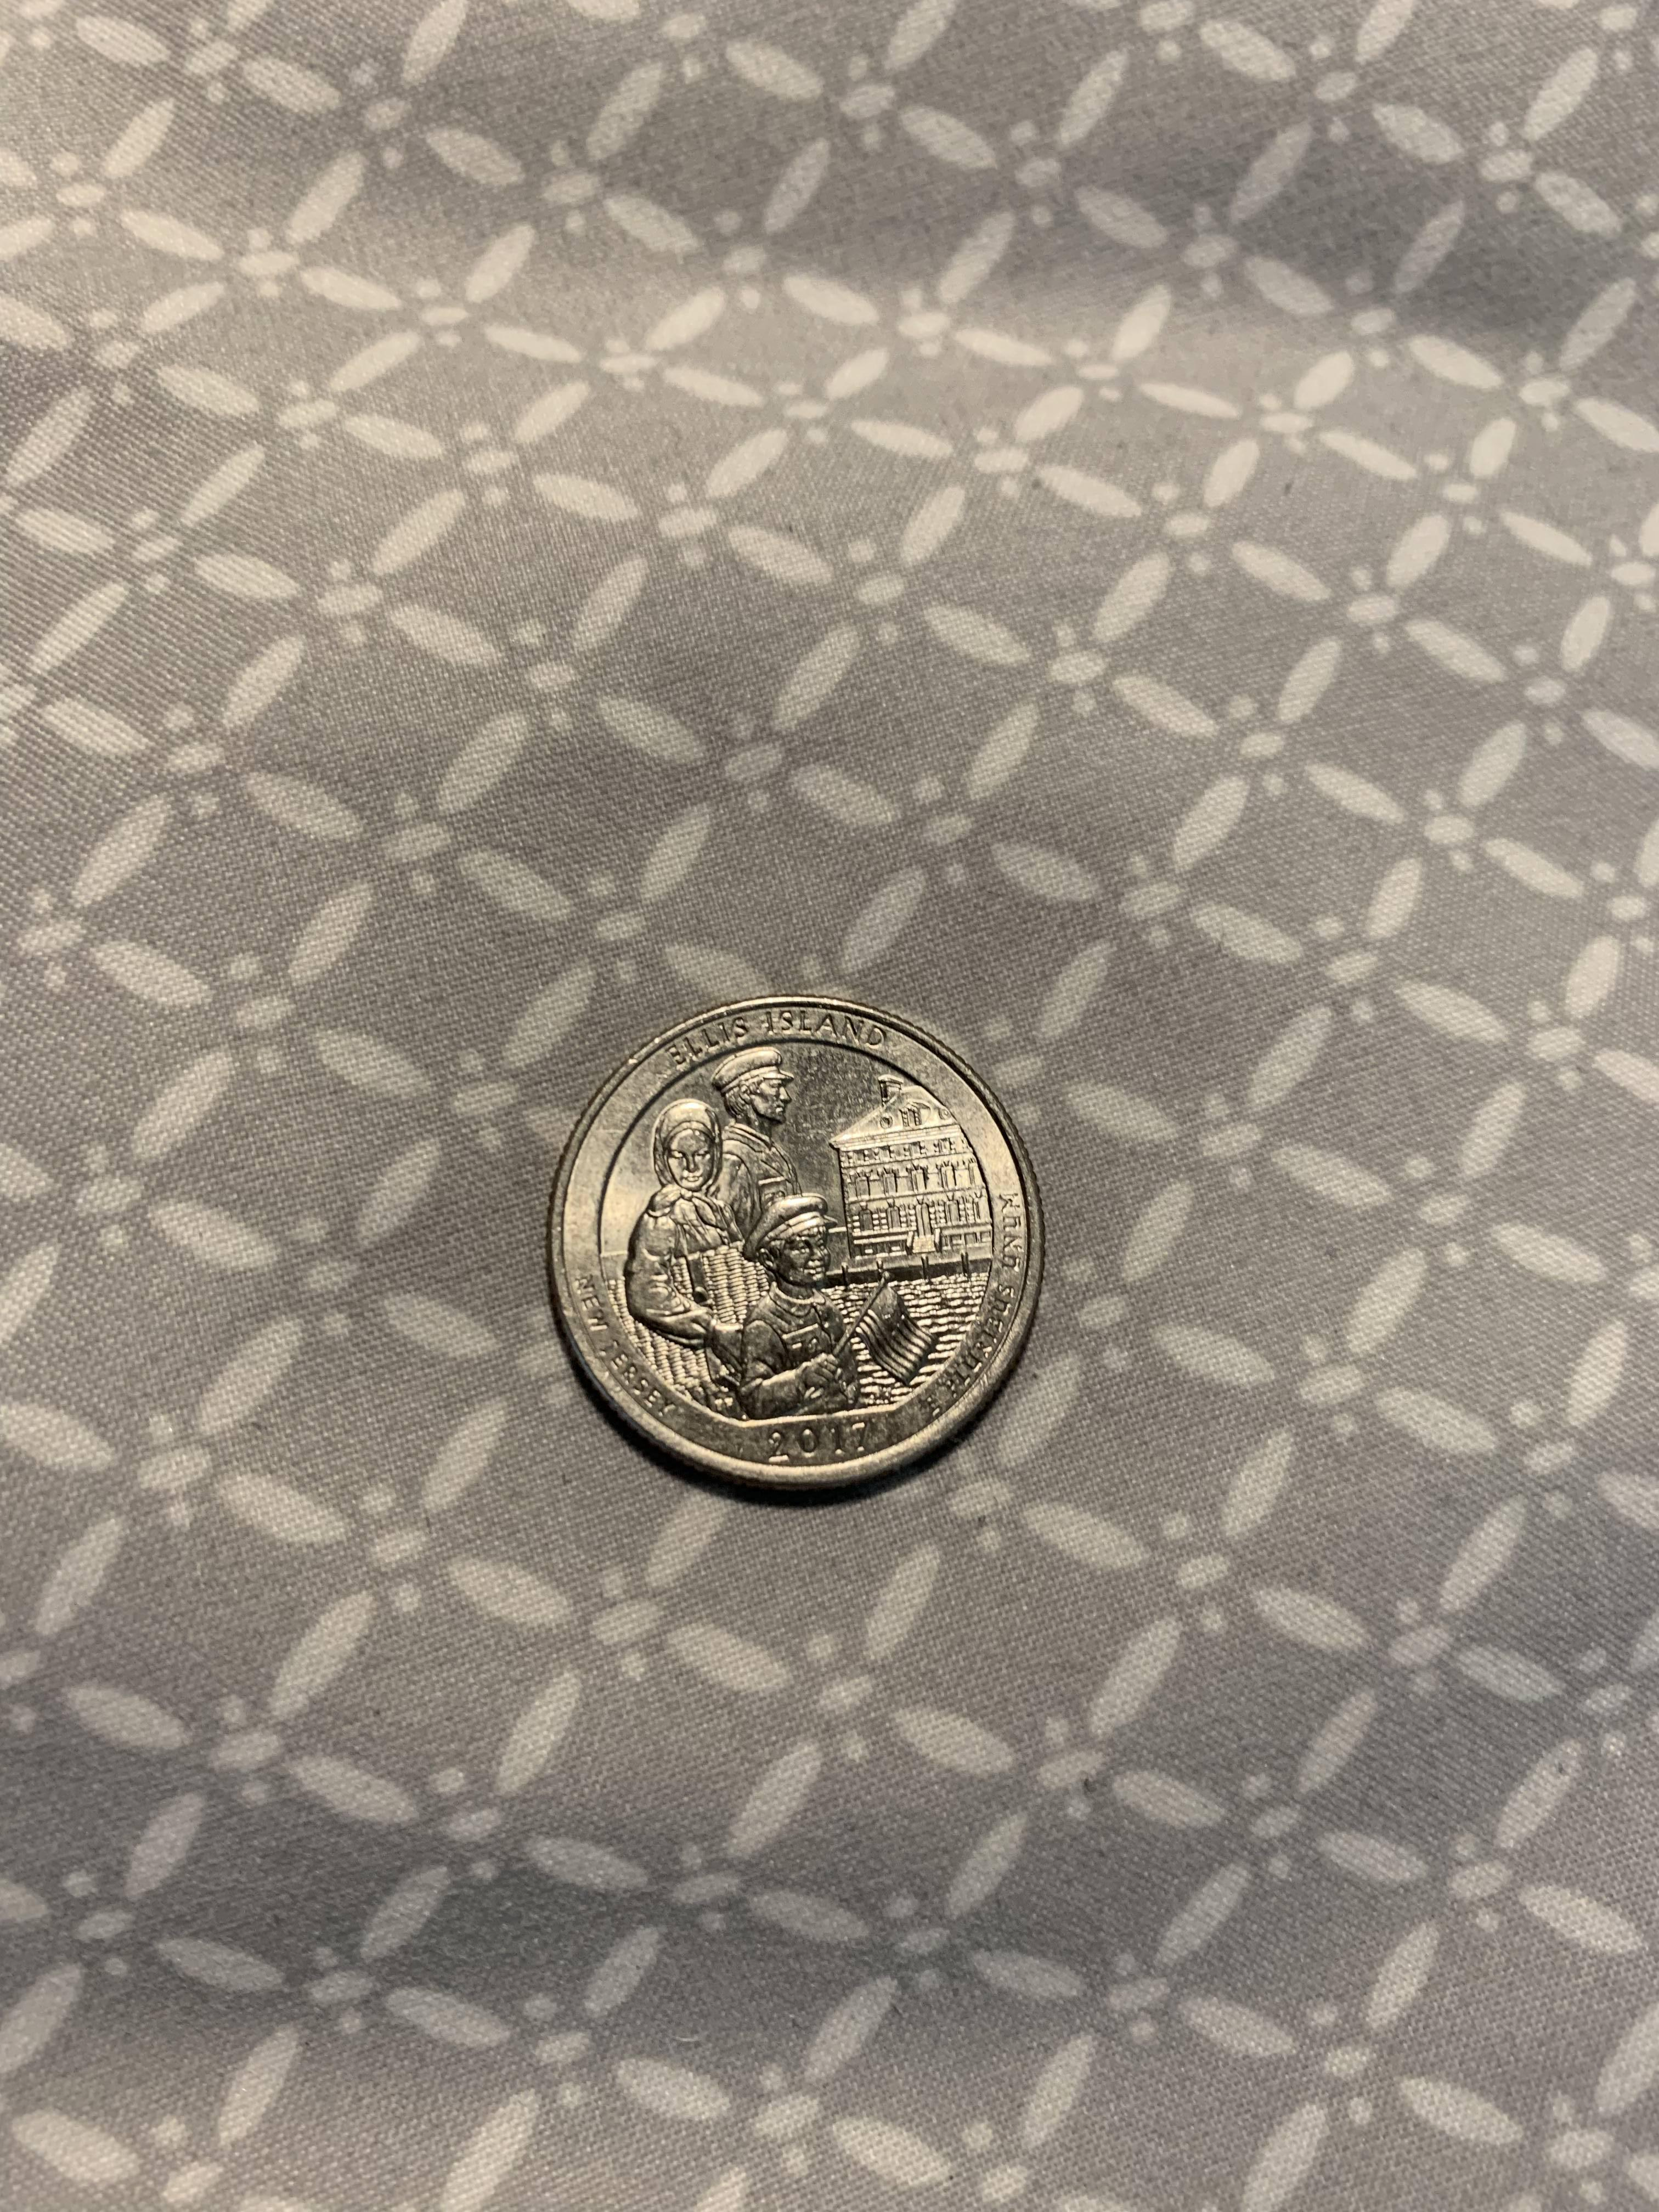Quarter: (525, 972, 1072, 1527)
